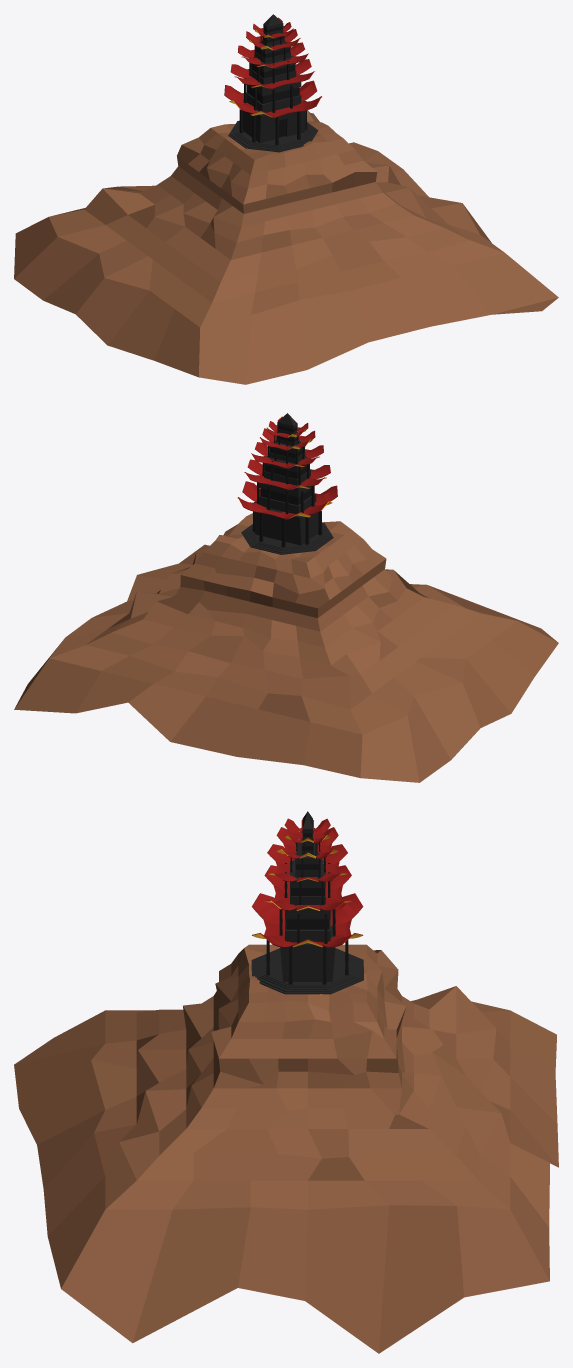
Rendered from Templo de fuego.fbx.
3 views of the same model, one above another, from view 1: azimuth 30°, elevation 25°; view 2: azimuth 150°, elevation 25°; view 3: azimuth 270°, elevation 25° (orthographic). The views are drawn at different scales.
Parts seen in each view (by area): view 1: Cube.041, Cube.008, Plane, Plane.002, Plane.003; view 2: Cube.041, Cube.008, Plane, Plane.002, Plane.003, Plane.004; view 3: Cube.041, Cube.008, Plane, Plane.002, Plane.003, Cylinder.004, Plane.004.
Part boxes in pixels (x1=…): Cube.041: x1=14, y1=110, x2=558, y2=384; Cube.008: x1=243, y1=14, x2=305, y2=143; Plane: x1=224, y1=80, x2=321, y2=118; Plane.002: x1=230, y1=59, x2=315, y2=88; Plane.003: x1=238, y1=42, x2=308, y2=68; Cube.041: x1=14, y1=513, x2=558, y2=782; Cube.008: x1=253, y1=413, x2=318, y2=545; Plane: x1=237, y1=481, x2=337, y2=519; Plane.002: x1=244, y1=459, x2=330, y2=490; Plane.003: x1=251, y1=435, x2=323, y2=468; Plane.004: x1=259, y1=425, x2=315, y2=450; Cube.041: x1=14, y1=944, x2=558, y2=1353; Cube.008: x1=280, y1=811, x2=335, y2=981; Plane: x1=252, y1=893, x2=363, y2=947; Plane.002: x1=264, y1=865, x2=351, y2=910; Plane.003: x1=267, y1=844, x2=347, y2=881; Cylinder.004: x1=264, y1=953, x2=351, y2=986; Plane.004: x1=276, y1=827, x2=338, y2=858.
Bounding box in the file's own units: 32670 × 24063 × 28948.
